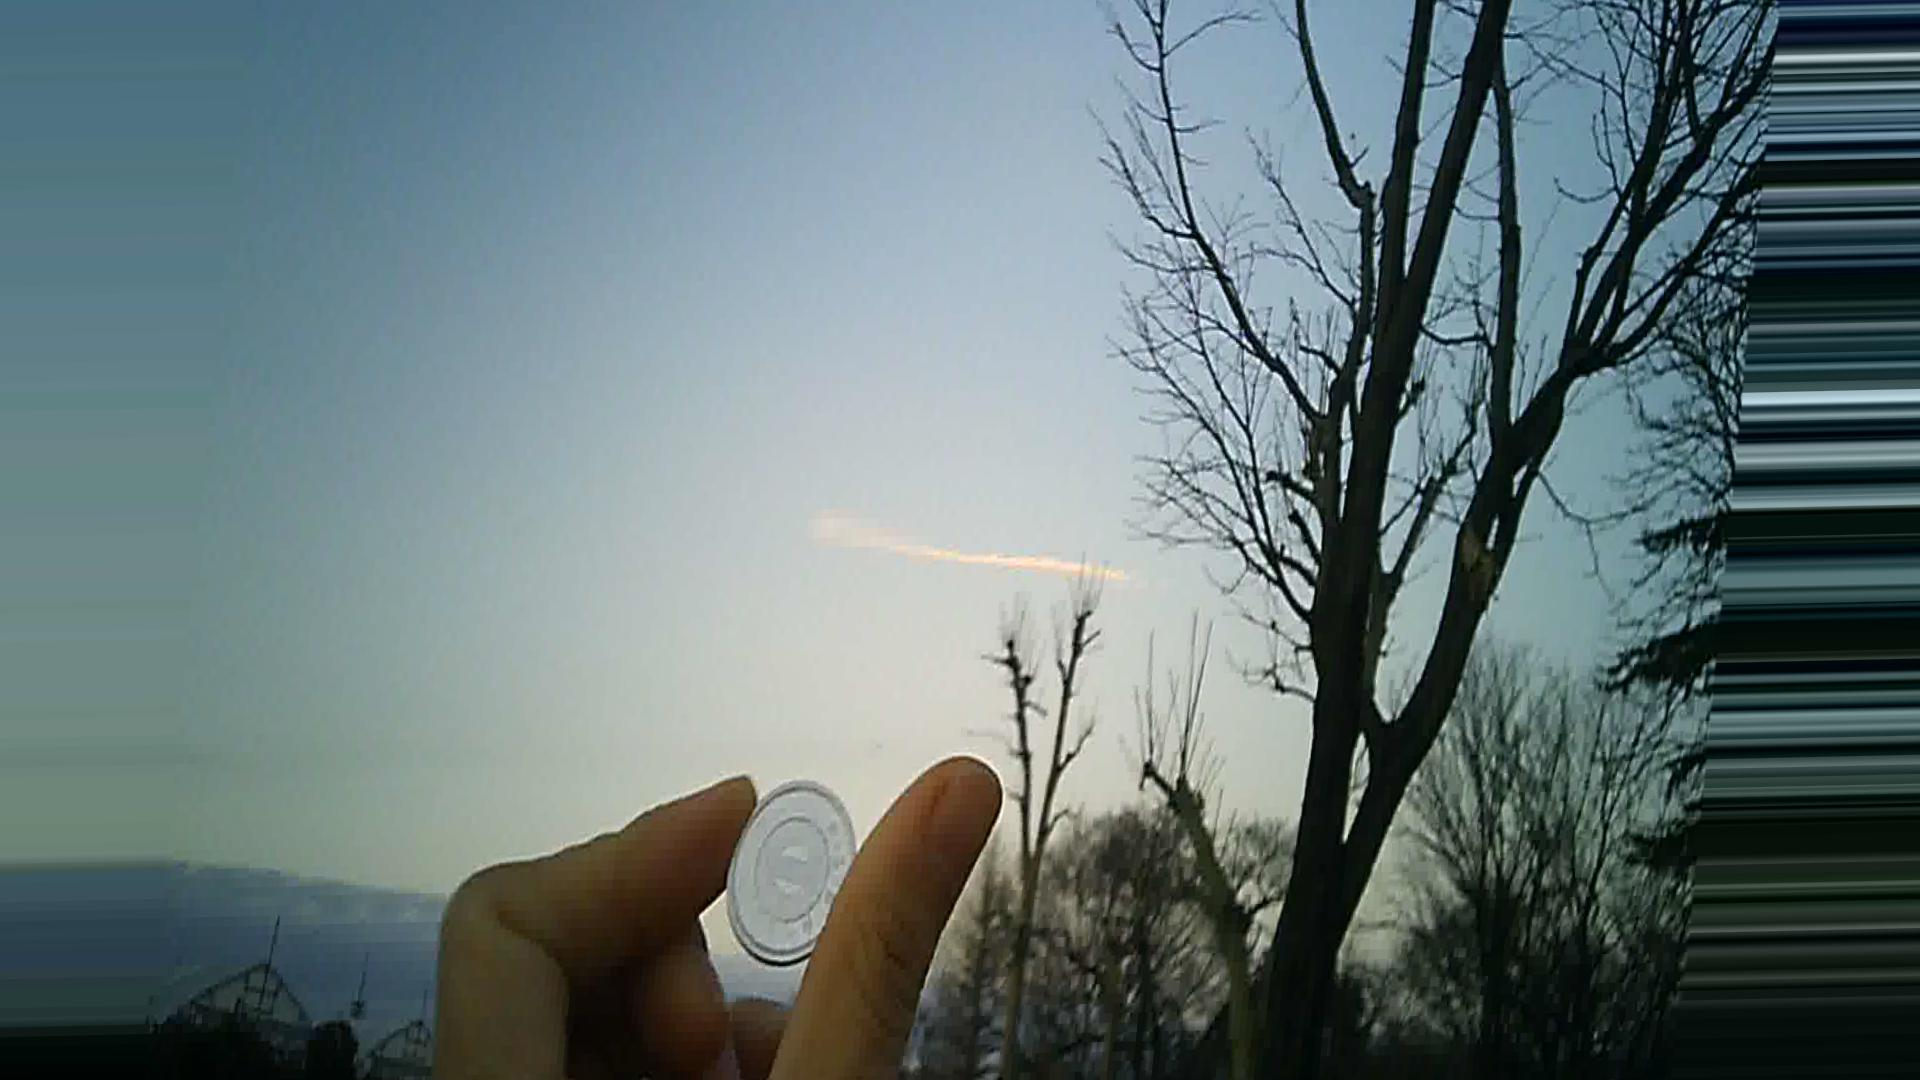1 Yen: (720, 779, 861, 963)
